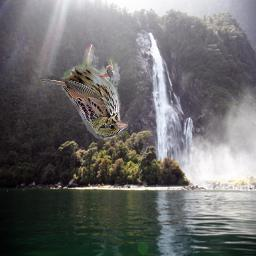Sparrow: (38, 44, 128, 139)
